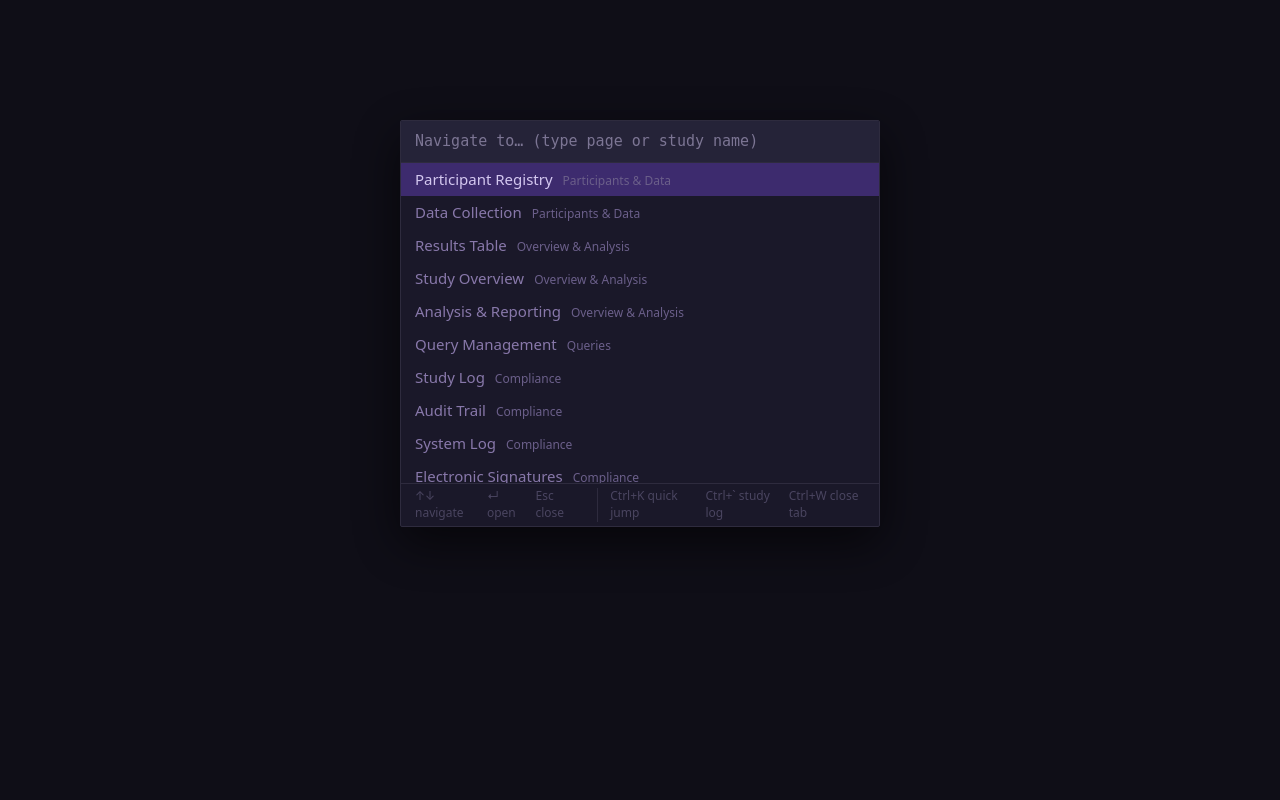
Scenario: CommandPalette › filters commands by label as you type
This screenshot has width=1280, height=800.
Type "consent" into the field with placeholder "Navigate to… (type page or study name)". click: (640, 142)
box: left=401, top=121, right=879, bottom=163
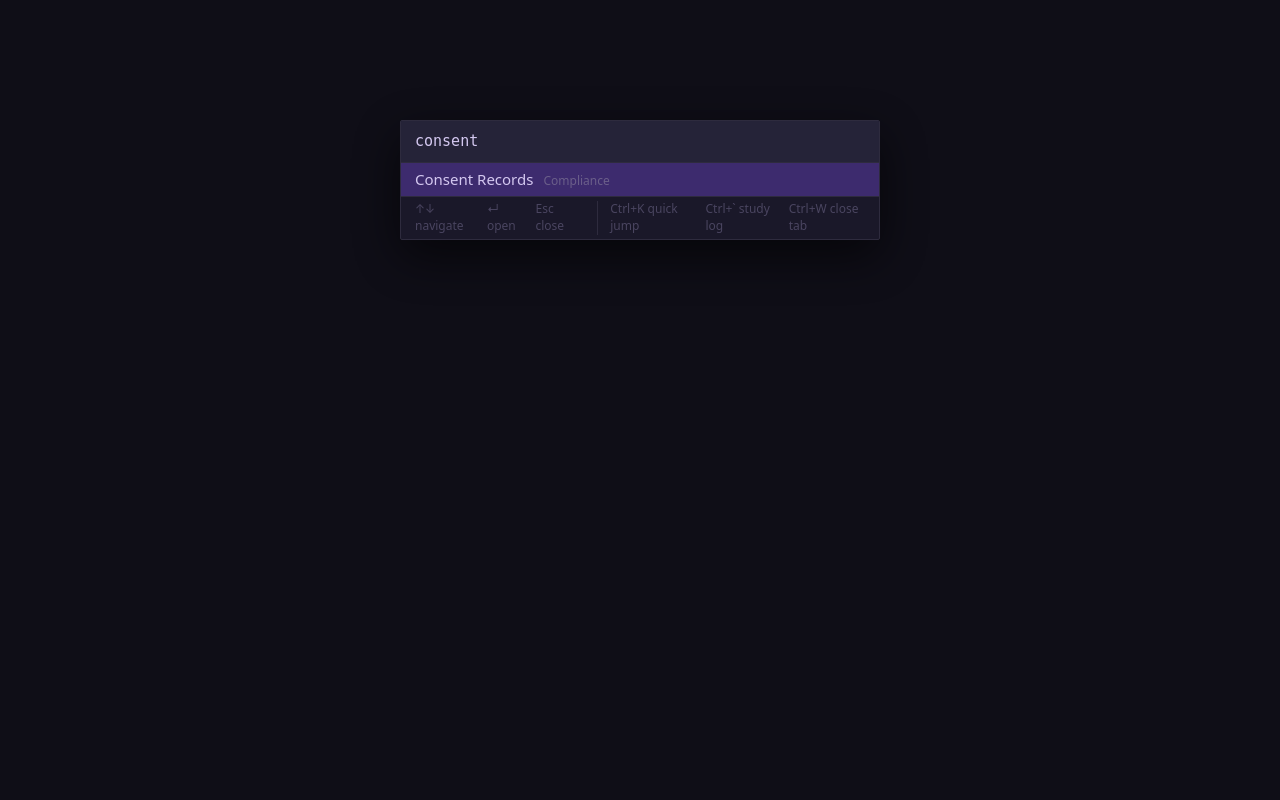
expect the text "User Registry" is not shown: met
expect the text "Consent Records" is shown: met, box left=415, top=169, right=533, bottom=190
